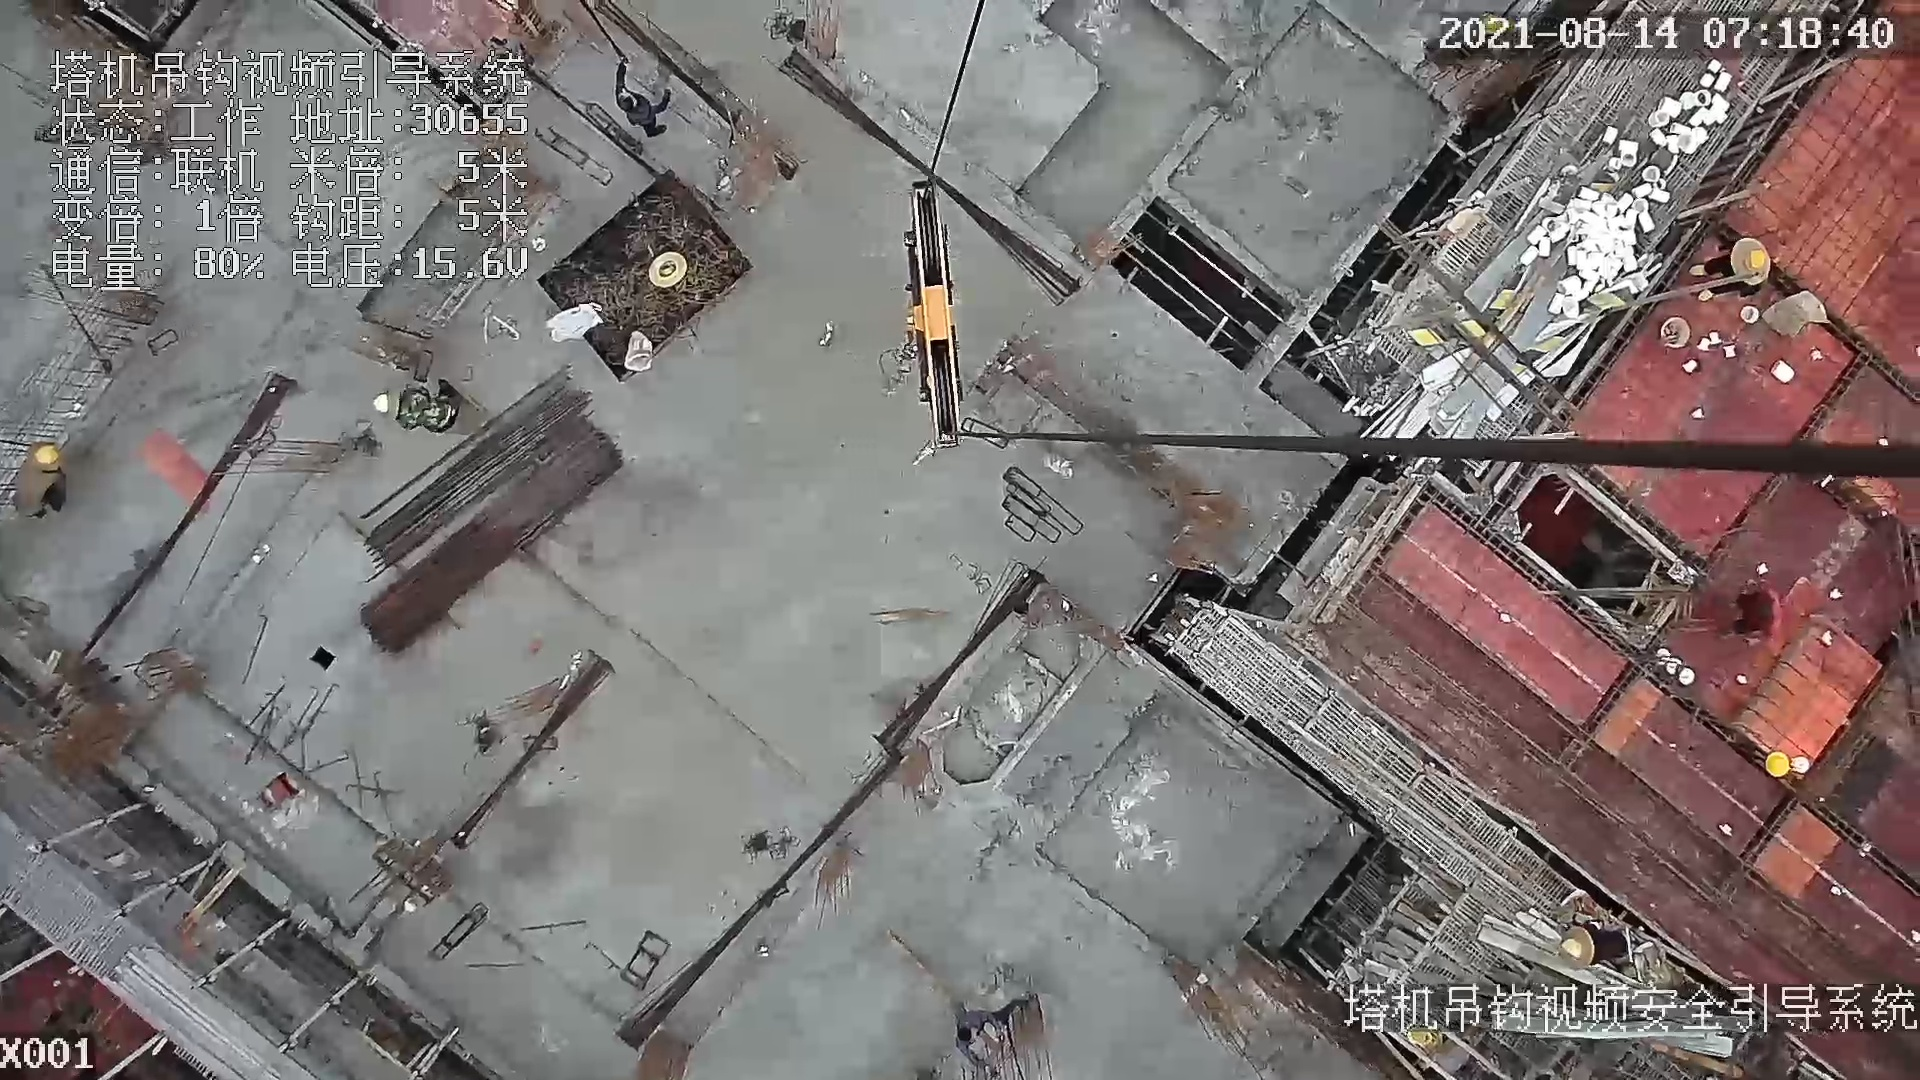helmet: (33, 446, 66, 467)
hook: (890, 181, 983, 459)
person: (609, 58, 678, 145)
